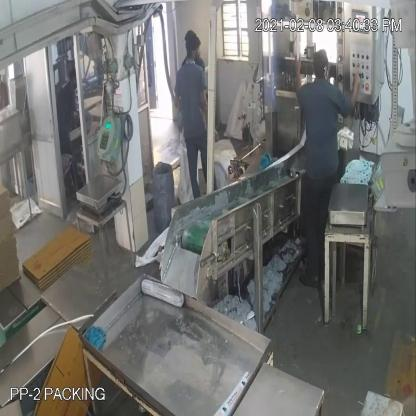no_glove: (338, 63, 365, 118), (283, 53, 311, 106)
